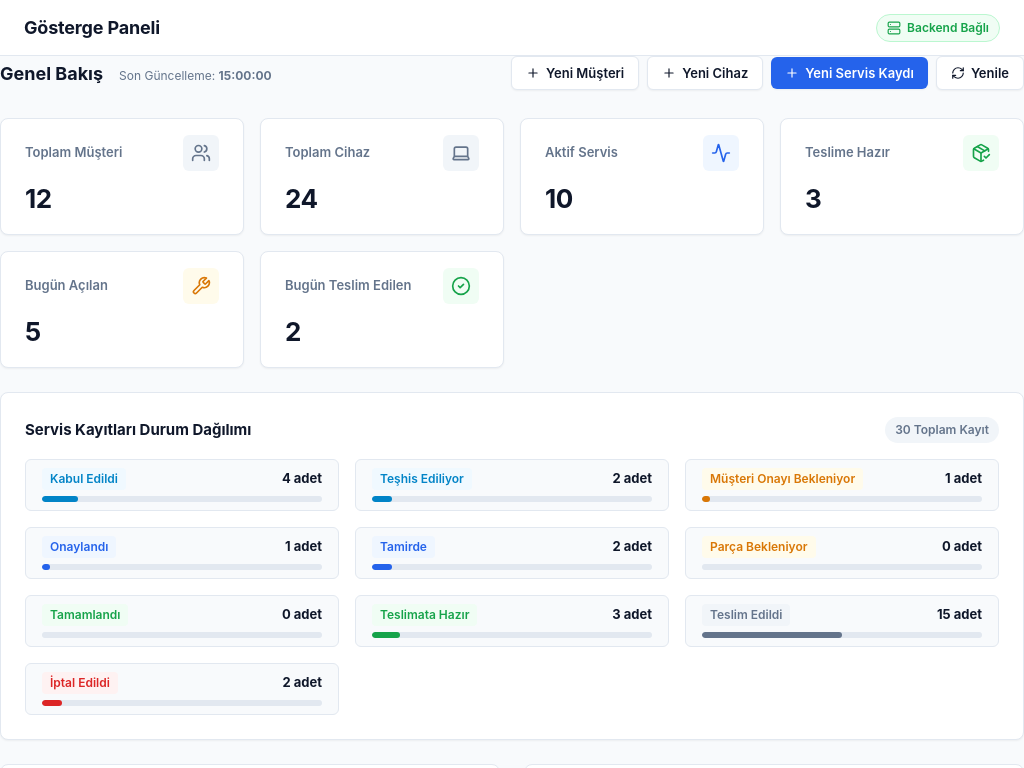
Test case: DashboardPage & Key Verification › opens quick action dialogs when action buttons are clicked
Expected: the text "12" is shown, [25,179,52,218]
Click the button "Yeni Müşteri" at (575, 73), box [511,56,639,90]
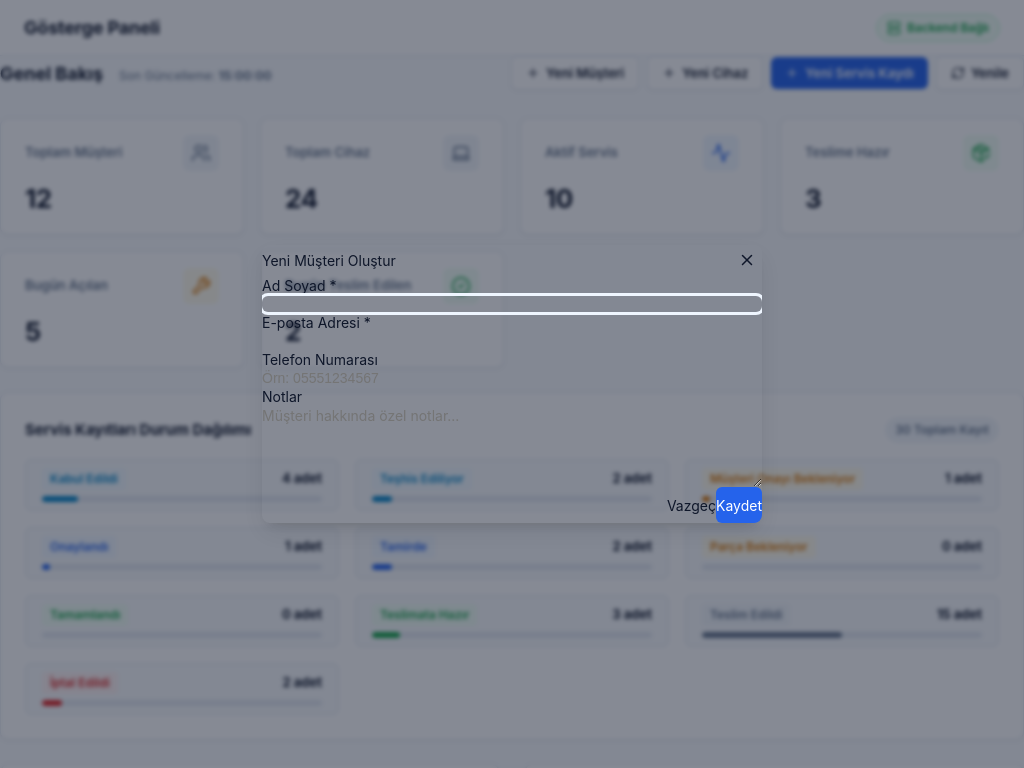
Result: the dialog is shown at [262,245,762,523]
